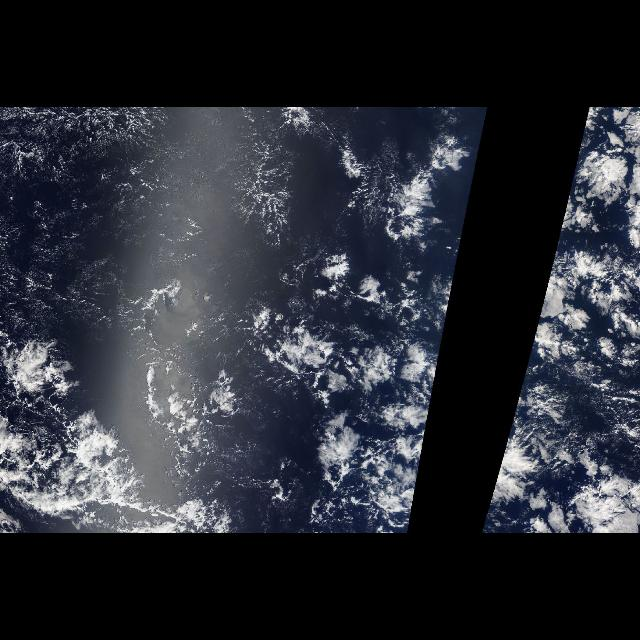Fish: (0, 353, 246, 533), (234, 126, 322, 252)
Flower: (282, 146, 480, 534), (480, 125, 640, 533)
Sugar: (0, 109, 284, 338)
